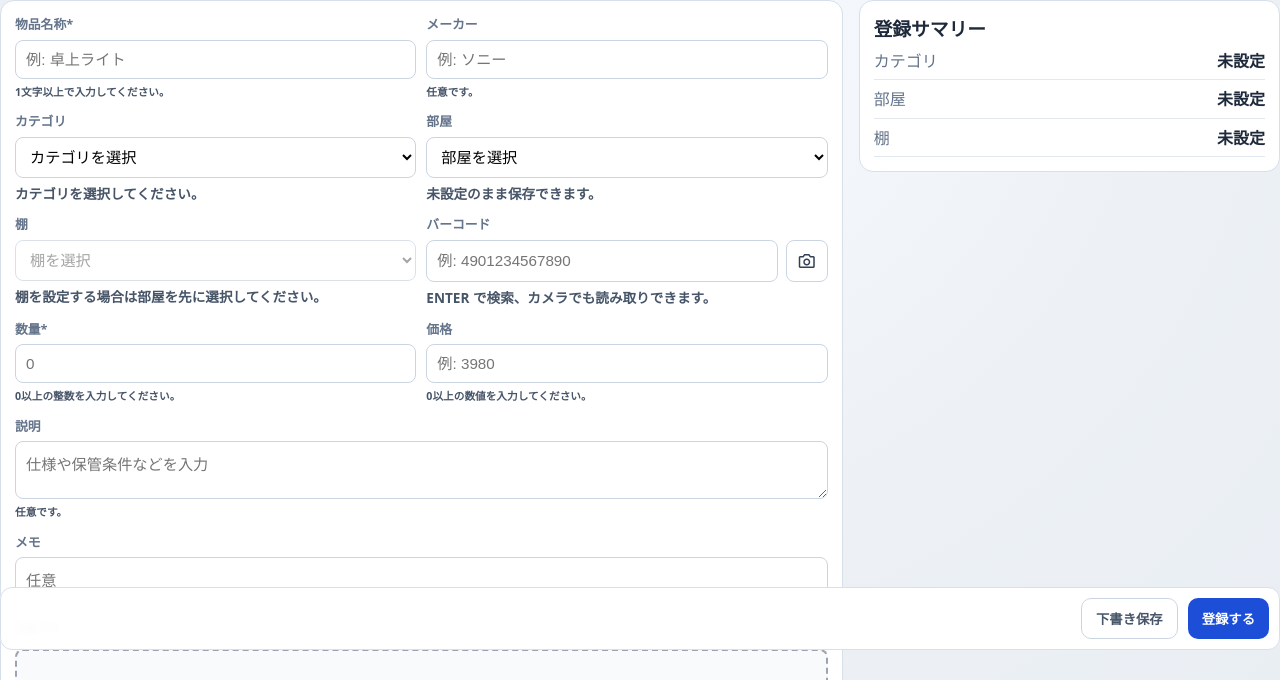
Test: ItemForm barcode › 商品未検出時に推奨アクションを表示する
This screenshot has width=1280, height=680.
Type "4901234567890" into the field named "barcode" at (602, 261), box [426,240,778,282]
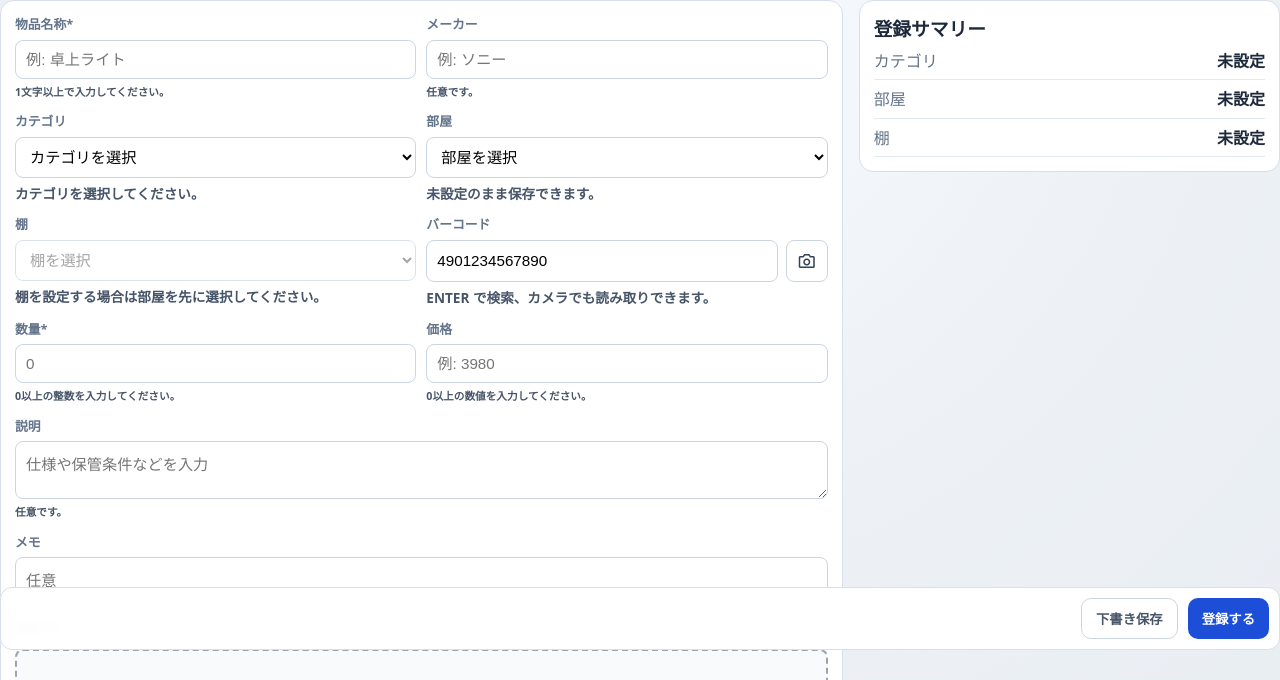
Press Enter in the field named "barcode", box [426,240,778,282]
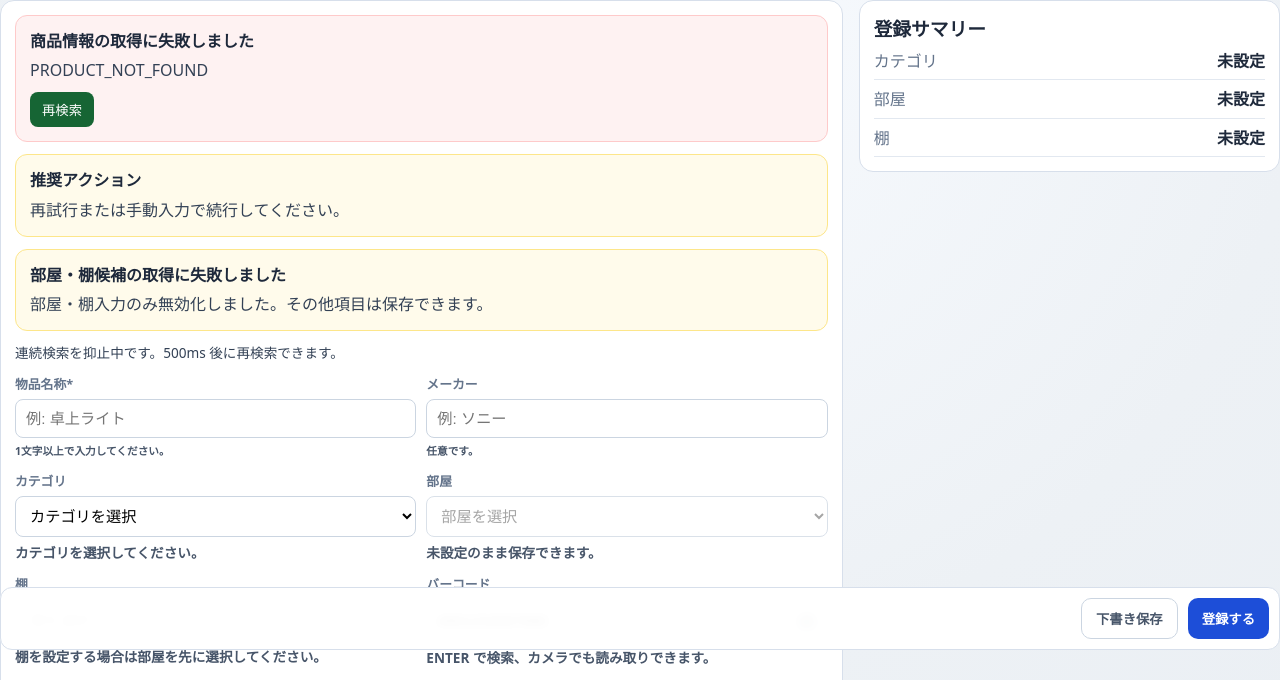
Now the text "PRODUCT_NOT_FOUND" is shown, box [30,59,208,81]
Now the text "推奨アクション" is shown, box [30,169,141,191]
